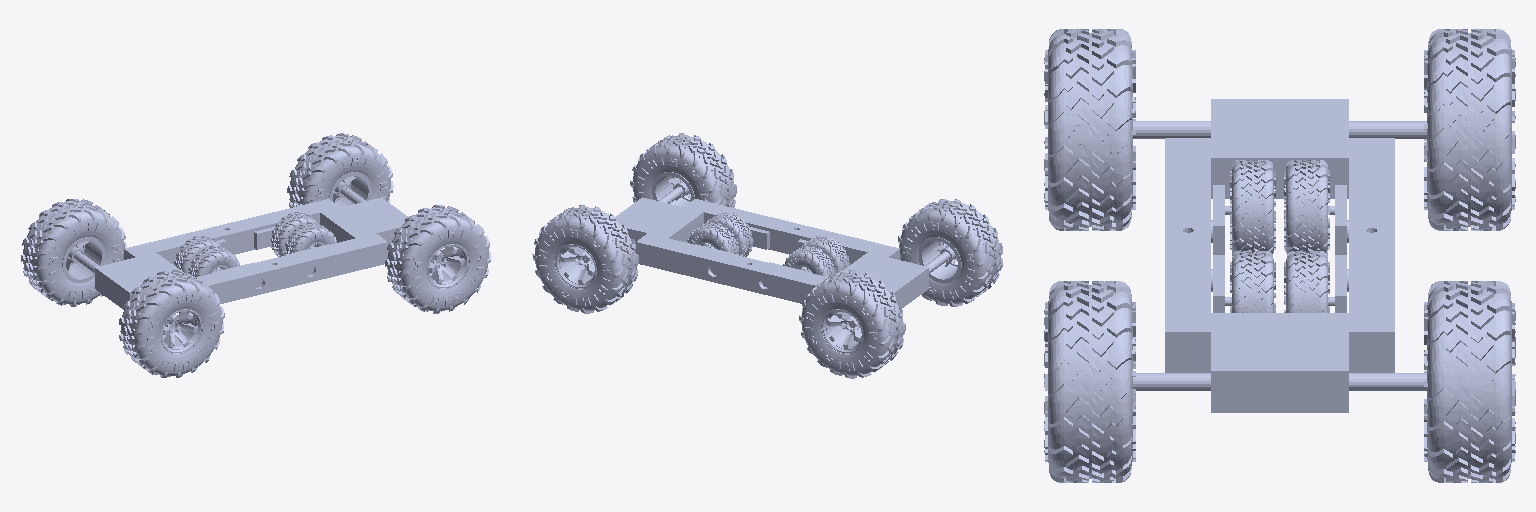
--- Render facts (derived) ---
The picture shows the robot from 3 angles, left to right: view 1: azimuth 30°, elevation 25°; view 2: azimuth 150°, elevation 25°; view 3: azimuth 270°, elevation 25°; orthographic projection.
Robot: optimus_no_origin_change — 19 links, 18 joints (8 continuous, 10 fixed); root link base_link; default pose: all joints at 0.
Visible links, largest first — view 1: base_link, FL_outer_wheel__link, RR_outer_wheel_link, RL_outer_wheel_link, FR_outer_wheel_link, F_bogie_link, R_bogie_link, FR_inner_wheel_link, RR_inner_wheel_link, FL_inner_wheel_link, RL_inner_wheel_link; view 2: base_link, FR_outer_wheel_link, RL_outer_wheel_link, RR_outer_wheel_link, FL_outer_wheel__link, F_bogie_link, R_bogie_link, FL_inner_wheel_link, RL_inner_wheel_link, FR_inner_wheel_link, RR_inner_wheel_link; view 3: base_link, FL_outer_wheel__link, FR_outer_wheel_link, RR_outer_wheel_link, RL_outer_wheel_link, F_bogie_link, R_bogie_link, RL_inner_wheel_link, RR_inner_wheel_link, FL_inner_wheel_link, FR_inner_wheel_link, FR_outer_wheel_connector_link (+7 smaller).
Boxes of the visible links, left/top/right/bottom form: base_link: left=124, top=199, right=387, bottom=303; FL_outer_wheel__link: left=385, top=205, right=491, bottom=313; RR_outer_wheel_link: left=119, top=270, right=224, bottom=377; RL_outer_wheel_link: left=21, top=199, right=126, bottom=306; FR_outer_wheel_link: left=287, top=133, right=393, bottom=207; F_bogie_link: left=320, top=197, right=407, bottom=262; R_bogie_link: left=95, top=253, right=184, bottom=309; FR_inner_wheel_link: left=285, top=222, right=336, bottom=253; RR_inner_wheel_link: left=189, top=246, right=239, bottom=276; FL_inner_wheel_link: left=271, top=212, right=320, bottom=256; RL_inner_wheel_link: left=174, top=236, right=223, bottom=273; base_link: left=636, top=199, right=899, bottom=303; FR_outer_wheel_link: left=532, top=205, right=638, bottom=313; RL_outer_wheel_link: left=799, top=270, right=905, bottom=378; RR_outer_wheel_link: left=898, top=199, right=1002, bottom=306; FL_outer_wheel__link: left=630, top=133, right=736, bottom=207; F_bogie_link: left=615, top=197, right=703, bottom=262; R_bogie_link: left=842, top=252, right=928, bottom=307; FL_inner_wheel_link: left=687, top=222, right=739, bottom=254; RL_inner_wheel_link: left=783, top=246, right=835, bottom=276; FR_inner_wheel_link: left=705, top=212, right=753, bottom=256; RR_inner_wheel_link: left=802, top=236, right=849, bottom=272; base_link: left=1165, top=138, right=1394, bottom=372; FL_outer_wheel__link: left=1044, top=281, right=1135, bottom=482; FR_outer_wheel_link: left=1424, top=281, right=1515, bottom=482; RR_outer_wheel_link: left=1044, top=29, right=1135, bottom=230; RL_outer_wheel_link: left=1424, top=29, right=1515, bottom=230; F_bogie_link: left=1211, top=313, right=1348, bottom=412; R_bogie_link: left=1211, top=99, right=1348, bottom=198; RL_inner_wheel_link: left=1284, top=160, right=1334, bottom=255; RR_inner_wheel_link: left=1225, top=160, right=1275, bottom=255; FL_inner_wheel_link: left=1284, top=251, right=1334, bottom=312; FR_inner_wheel_link: left=1225, top=251, right=1275, bottom=312; FR_outer_wheel_connector_link: left=1349, top=373, right=1426, bottom=390.
Bounding box of the posed robot: 3.48 × 2.05 × 0.8842 m (x, y, z).
Meshes: 19 distinct files referenced, 19 mesh visuals loaded (19 binary STL).

The robot description file, URDF, robot "optimus_no_origin_change":
<?xml version="1.0" encoding="utf-8"?>
<!-- This URDF was automatically created by SolidWorks to URDF Exporter! Originally created by Stephen Brawner ([email redacted]) 
     Commit Version: 1.6.0-1-g15f4949  Build Version: 1.6.7594.29634
     For more information, please see http://wiki.ros.org/sw_urdf_exporter -->
<robot
  name="optimus_no_origin_change">
  <link
    name="base_link">
    <inertial>
      <origin
        xyz="0.000271978105834902 0 -0.1"
        rpy="0 0 0" />
      <mass
        value="144.386284511659" />
      <inertia
        ixx="0.989799028466643"
        ixy="-4.90168172178078E-16"
        ixz="-3.9037651168657E-16"
        iyy="11.5644597125907"
        iyz="1.3263541125631E-17"
        izz="11.5261415106454" />
    </inertial>
    <visual>
      <origin
        xyz="0 0 0"
        rpy="0 0 0" />
      <geometry>
        <mesh
          filename="package://optimus_no_origin_change/meshes/base_link.STL" />
      </geometry>
      <material
        name="">
        <color
          rgba="0.792156862745098 0.819607843137255 0.933333333333333 1" />
      </material>
    </visual>
    <collision>
      <origin
        xyz="0 0 0"
        rpy="0 0 0" />
      <geometry>
        <mesh
          filename="package://optimus_no_origin_change/meshes/base_link.STL" />
      </geometry>
    </collision>
  </link>
  <link
    name="F_bogie_link">
    <inertial>
      <origin
        xyz="-0.0244164389508556 1.11022302462516E-16 0.3"
        rpy="0 0 0" />
      <mass
        value="75.1415926535898" />
      <inertia
        ixx="3.32158725212812"
        ixy="1.03837403218471E-16"
        ixz="-2.69176304497067E-16"
        iyy="5.32245435921457"
        iyz="-4.98335187950695E-16"
        izz="2.49354029185103" />
    </inertial>
    <visual>
      <origin
        xyz="0 0 0"
        rpy="0 0 0" />
      <geometry>
        <mesh
          filename="package://optimus_no_origin_change/meshes/F_bogie_link.STL" />
      </geometry>
      <material
        name="">
        <color
          rgba="0.792156862745098 0.819607843137255 0.933333333333333 1" />
      </material>
    </visual>
    <collision>
      <origin
        xyz="0 0 0"
        rpy="0 0 0" />
      <geometry>
        <mesh
          filename="package://optimus_no_origin_change/meshes/F_bogie_link.STL" />
      </geometry>
    </collision>
  </link>
  <joint
    name="F_bogie_joint"
    type="fixed">
    <origin
      xyz="1.1 -0.3 -0.1"
      rpy="-1.5707963267949 0 0" />
    <parent
      link="base_link" />
    <child
      link="F_bogie_link" />
    <axis
      xyz="0 0 0" />
  </joint>
  <link
    name="FR_outer_wheel_connector_link">
    <inertial>
      <origin
        xyz="3.33066907387547E-15 -2.85882428840978E-15 0.206818181818182"
        rpy="0 0 0" />
      <mass
        value="2.07345115136926" />
      <inertia
        ixx="0.0307163509718099"
        ixy="0"
        ixz="-3.74779761372748E-17"
        iyy="0.0307163509718099"
        iyz="2.33586732760321E-17"
        izz="0.00162106180925233" />
    </inertial>
    <visual>
      <origin
        xyz="0 0 0"
        rpy="0 0 0" />
      <geometry>
        <mesh
          filename="package://optimus_no_origin_change/meshes/FR_outer_wheel_connector_link.STL" />
      </geometry>
      <material
        name="">
        <color
          rgba="0.792156862745098 0.819607843137255 0.933333333333333 1" />
      </material>
    </visual>
    <collision>
      <origin
        xyz="0 0 0"
        rpy="0 0 0" />
      <geometry>
        <mesh
          filename="package://optimus_no_origin_change/meshes/FR_outer_wheel_connector_link.STL" />
      </geometry>
    </collision>
  </link>
  <joint
    name="FR_outer_wheel_connector_joint"
    type="fixed">
    <origin
      xyz="0.2 0 0.6"
      rpy="0 0 -1.3038" />
    <parent
      link="F_bogie_link" />
    <child
      link="FR_outer_wheel_connector_link" />
    <axis
      xyz="0 0 0" />
  </joint>
  <link
    name="FR_outer_wheel_link">
    <inertial>
      <origin
        xyz="0.201565805423125 -2.39341393715176E-06 2.39491226172728E-06"
        rpy="0 0 0" />
      <mass
        value="39.6885330149725" />
      <inertia
        ixx="4.63080044138697"
        ixy="5.39282947462053E-06"
        ixz="-5.40463680082042E-06"
        iyy="2.95668276005804"
        iyz="-9.49566603791752E-06"
        izz="2.95668280949652" />
    </inertial>
    <visual>
      <origin
        xyz="0 0 0"
        rpy="0 0 0" />
      <geometry>
        <mesh
          filename="package://optimus_no_origin_change/meshes/FR_outer_wheel_link.STL" />
      </geometry>
      <material
        name="">
        <color
          rgba="0.792156862745098 0.819607843137255 0.933333333333333 1" />
      </material>
    </visual>
    <collision>
      <origin
        xyz="0 0 0"
        rpy="0 0 0" />
      <geometry>
        <mesh
          filename="package://optimus_no_origin_change/meshes/FR_outer_wheel_link.STL" />
      </geometry>
    </collision>
  </link>
  <joint
    name="FR_outer_wheel_joint"
    type="continuous">
    <origin
      xyz="0 0 0.326743890579709"
      rpy="1.85261522674577 -1.5707963267949 0" />
    <parent
      link="FR_outer_wheel_connector_link" />
    <child
      link="FR_outer_wheel_link" />
    <axis
      xyz="1 0 0" />
  </joint>
  <link
    name="FL_outer_wheel_connector_link">
    <inertial>
      <origin
        xyz="3.33066907387547E-15 8.21565038222616E-15 0.206818181818182"
        rpy="0 0 0" />
      <mass
        value="2.07345115136926" />
      <inertia
        ixx="0.0307163509718099"
        ixy="0"
        ixz="-2.7143033242461E-17"
        iyy="0.0307163509718099"
        iyz="-6.90946420908297E-18"
        izz="0.00162106180925233" />
    </inertial>
    <visual>
      <origin
        xyz="0 0 0"
        rpy="0 0 0" />
      <geometry>
        <mesh
          filename="package://optimus_no_origin_change/meshes/FL_outer_wheel_connector_link.STL" />
      </geometry>
      <material
        name="">
        <color
          rgba="0.792156862745098 0.819607843137255 0.933333333333333 1" />
      </material>
    </visual>
    <collision>
      <origin
        xyz="0 0 0"
        rpy="0 0 0" />
      <geometry>
        <mesh
          filename="package://optimus_no_origin_change/meshes/FL_outer_wheel_connector_link.STL" />
      </geometry>
    </collision>
  </link>
  <joint
    name="FL_outer_wheel_connector_joint"
    type="fixed">
    <origin
      xyz="0.2 0 0"
      rpy="3.1416 0 -1.0332" />
    <parent
      link="F_bogie_link" />
    <child
      link="FL_outer_wheel_connector_link" />
    <axis
      xyz="0 0 0" />
  </joint>
  <link
    name="FL_outer_wheel__link">
    <inertial>
      <origin
        xyz="0.201565805423117 -2.39341393393211E-06 2.39491227418953E-06"
        rpy="0 0 0" />
      <mass
        value="39.6885330149755" />
      <inertia
        ixx="4.63080044138726"
        ixy="5.39282947359885E-06"
        ixz="-5.40463679747915E-06"
        iyy="2.9566827600579"
        iyz="-9.49566611097019E-06"
        izz="2.95668280949706" />
    </inertial>
    <visual>
      <origin
        xyz="0 0 0"
        rpy="0 0 0" />
      <geometry>
        <mesh
          filename="package://optimus_no_origin_change/meshes/FL_outer_wheel__link.STL" />
      </geometry>
      <material
        name="">
        <color
          rgba="0.792156862745098 0.819607843137255 0.933333333333333 1" />
      </material>
    </visual>
    <collision>
      <origin
        xyz="0 0 0"
        rpy="0 0 0" />
      <geometry>
        <mesh
          filename="package://optimus_no_origin_change/meshes/FL_outer_wheel__link.STL" />
      </geometry>
    </collision>
  </link>
  <joint
    name="FL_outer_wheel_joint"
    type="continuous">
    <origin
      xyz="0 0 0.326743890579708"
      rpy="1.85261522674577 -1.5707963267949 0" />
    <parent
      link="FL_outer_wheel_connector_link" />
    <child
      link="FL_outer_wheel__link" />
    <axis
      xyz="1 0 0" />
  </joint>
  <link
    name="R_bogie_link">
    <inertial>
      <origin
        xyz="-0.0244164389508561 -1.11022302462516E-16 -0.3"
        rpy="0 0 0" />
      <mass
        value="75.1415926535897" />
      <inertia
        ixx="3.32158725212812"
        ixy="4.90010961927251E-17"
        ixz="9.65658784720791E-17"
        iyy="5.32245435921456"
        iyz="8.52304382823977E-17"
        izz="2.49354029185103" />
    </inertial>
    <visual>
      <origin
        xyz="0 0 0"
        rpy="0 0 0" />
      <geometry>
        <mesh
          filename="package://optimus_no_origin_change/meshes/R_bogie_link.STL" />
      </geometry>
      <material
        name="">
        <color
          rgba="0.792156862745098 0.819607843137255 0.933333333333333 1" />
      </material>
    </visual>
    <collision>
      <origin
        xyz="0 0 0"
        rpy="0 0 0" />
      <geometry>
        <mesh
          filename="package://optimus_no_origin_change/meshes/R_bogie_link.STL" />
      </geometry>
    </collision>
  </link>
  <joint
    name="R_bogie_joint"
    type="fixed">
    <origin
      xyz="-1.1 -0.3 -0.0999999999999984"
      rpy="-1.5707963267949 0 -3.14159265358979" />
    <parent
      link="base_link" />
    <child
      link="R_bogie_link" />
    <axis
      xyz="0 0 0" />
  </joint>
  <link
    name="RL_outer_wheel_connector_link">
    <inertial>
      <origin
        xyz="1.11022302462516E-16 -4.44089209850063E-16 0.206818181818182"
        rpy="0 0 0" />
      <mass
        value="2.07345115136926" />
      <inertia
        ixx="0.0307163509718099"
        ixy="-2.16840434497101E-18"
        ixz="-2.59961384249049E-17"
        iyy="0.0307163509718099"
        iyz="-1.02299443094433E-17"
        izz="0.00162106180925233" />
    </inertial>
    <visual>
      <origin
        xyz="0 0 0"
        rpy="0 0 0" />
      <geometry>
        <mesh
          filename="package://optimus_no_origin_change/meshes/RL_outer_wheel_connector_link.STL" />
      </geometry>
      <material
        name="">
        <color
          rgba="0.792156862745098 0.819607843137255 0.933333333333333 1" />
      </material>
    </visual>
    <collision>
      <origin
        xyz="0 0 0"
        rpy="0 0 0" />
      <geometry>
        <mesh
          filename="package://optimus_no_origin_change/meshes/RL_outer_wheel_connector_link.STL" />
      </geometry>
    </collision>
  </link>
  <joint
    name="RL_outer_wheel_connector_joint"
    type="fixed">
    <origin
      xyz="0.2 0 -0.6"
      rpy="3.1416 0 -1.7592" />
    <parent
      link="R_bogie_link" />
    <child
      link="RL_outer_wheel_connector_link" />
    <axis
      xyz="0 0 0" />
  </joint>
  <link
    name="RL_outer_wheel_link">
    <inertial>
      <origin
        xyz="0.201565805282954 -2.39346774866256E-06 2.39471855190132E-06"
        rpy="0 0 0" />
      <mass
        value="39.6885328227854" />
      <inertia
        ixx="4.63080044108311"
        ixy="5.39285840694666E-06"
        ixz="-5.4045010386314E-06"
        iyy="2.95668275970754"
        iyz="-9.49559167129355E-06"
        izz="2.95668280940998" />
    </inertial>
    <visual>
      <origin
        xyz="0 0 0"
        rpy="0 0 0" />
      <geometry>
        <mesh
          filename="package://optimus_no_origin_change/meshes/RL_outer_wheel_link.STL" />
      </geometry>
      <material
        name="">
        <color
          rgba="0.792156862745098 0.819607843137255 0.933333333333333 1" />
      </material>
    </visual>
    <collision>
      <origin
        xyz="0 0 0"
        rpy="0 0 0" />
      <geometry>
        <mesh
          filename="package://optimus_no_origin_change/meshes/RL_outer_wheel_link.STL" />
      </geometry>
    </collision>
  </link>
  <joint
    name="RL_outer_wheel_joint"
    type="continuous">
    <origin
      xyz="0 0 0.326743890579709"
      rpy="1.85261522674576 -1.5707963267949 0" />
    <parent
      link="RL_outer_wheel_connector_link" />
    <child
      link="RL_outer_wheel_link" />
    <axis
      xyz="1 0 0" />
  </joint>
  <link
    name="RR_outer_wheel_connector_link">
    <inertial>
      <origin
        xyz="5.55111512312578E-16 -8.88178419700125E-16 0.206818181818182"
        rpy="0 0 0" />
      <mass
        value="2.07345115136926" />
      <inertia
        ixx="0.0307163509718099"
        ixy="-3.46944695195361E-18"
        ixz="-1.69209866544731E-17"
        iyy="0.0307163509718099"
        iyz="-9.04307851299227E-18"
        izz="0.00162106180925233" />
    </inertial>
    <visual>
      <origin
        xyz="0 0 0"
        rpy="0 0 0" />
      <geometry>
        <mesh
          filename="package://optimus_no_origin_change/meshes/RR_outer_wheel_connector_link.STL" />
      </geometry>
      <material
        name="">
        <color
          rgba="0.792156862745098 0.819607843137255 0.933333333333333 1" />
      </material>
    </visual>
    <collision>
      <origin
        xyz="0 0 0"
        rpy="0 0 0" />
      <geometry>
        <mesh
          filename="package://optimus_no_origin_change/meshes/RR_outer_wheel_connector_link.STL" />
      </geometry>
    </collision>
  </link>
  <joint
    name="RR_outer_wheel_connector_joint"
    type="fixed">
    <origin
      xyz="0.2 0 0"
      rpy="0 0 -2.2505" />
    <parent
      link="R_bogie_link" />
    <child
      link="RR_outer_wheel_connector_link" />
    <axis
      xyz="0 0 0" />
  </joint>
  <link
    name="RR_outer_wheel_link">
    <inertial>
      <origin
        xyz="0.201565805423126 -2.39341393715176E-06 2.39491226405875E-06"
        rpy="0 0 0" />
      <mass
        value="39.6885330149728" />
      <inertia
        ixx="4.630800441387"
        ixy="5.39282946622436E-06"
        ixz="-5.40463679225832E-06"
        iyy="2.95668276005781"
        iyz="-9.49566595909168E-06"
        izz="2.95668280949678" />
    </inertial>
    <visual>
      <origin
        xyz="0 0 0"
        rpy="0 0 0" />
      <geometry>
        <mesh
          filename="package://optimus_no_origin_change/meshes/RR_outer_wheel_link.STL" />
      </geometry>
      <material
        name="">
        <color
          rgba="0.792156862745098 0.819607843137255 0.933333333333333 1" />
      </material>
    </visual>
    <collision>
      <origin
        xyz="0 0 0"
        rpy="0 0 0" />
      <geometry>
        <mesh
          filename="package://optimus_no_origin_change/meshes/RR_outer_wheel_link.STL" />
      </geometry>
    </collision>
  </link>
  <joint
    name="RR_outer_wheel_joint"
    type="continuous">
    <origin
      xyz="0 0 0.326743890579708"
      rpy="1.85261522674574 -1.5707963267949 0" />
    <parent
      link="RR_outer_wheel_connector_link" />
    <child
      link="RR_outer_wheel_link" />
    <axis
      xyz="1 0 0" />
  </joint>
  <link
    name="FL_inner_wheel_connector_link">
    <inertial>
      <origin
        xyz="0.000744286749609024 1.11022302462516E-16 0.20508770745258"
        rpy="0 0 0" />
      <mass
        value="3.16570796326795" />
      <inertia
        ixx="0.0524105342655653"
        ixy="-4.35624452410736E-20"
        ixz="0.000247607077286725"
        iyy="0.0471742267451069"
        iyz="1.2697749470794E-19"
        izz="0.00666180087935192" />
    </inertial>
    <visual>
      <origin
        xyz="0 0 0"
        rpy="0 0 0" />
      <geometry>
        <mesh
          filename="package://optimus_no_origin_change/meshes/FL_inner_wheel_connector_link.STL" />
      </geometry>
      <material
        name="">
        <color
          rgba="0.792156862745098 0.819607843137255 0.933333333333333 1" />
      </material>
    </visual>
    <collision>
      <origin
        xyz="0 0 0"
        rpy="0 0 0" />
      <geometry>
        <mesh
          filename="package://optimus_no_origin_change/meshes/FL_inner_wheel_connector_link.STL" />
      </geometry>
    </collision>
  </link>
  <joint
    name="FL_inner_wheel_connector_joint"
    type="fixed">
    <origin
      xyz="0.15 0.265 -0.1"
      rpy="1.5708 0 1.5708" />
    <parent
      link="base_link" />
    <child
      link="FL_inner_wheel_connector_link" />
    <axis
      xyz="0 0 0" />
  </joint>
  <link
    name="FL_inner_wheel_link">
    <inertial>
      <origin
        xyz="0.122556778342617 -2.36936965991585E-06 2.37036620520659E-06"
        rpy="0 0 0" />
      <mass
        value="5.0050487689712" />
      <inertia
        ixx="0.144720367774976"
        ixy="1.68525920626152E-07"
        ixz="-1.68894899705309E-07"
        iyy="0.0924066661076408"
        iyz="-2.96739585987828E-07"
        izz="0.0924066676526247" />
    </inertial>
    <visual>
      <origin
        xyz="0 0 0"
        rpy="0 0 0" />
      <geometry>
        <mesh
          filename="package://optimus_no_origin_change/meshes/FL_inner_wheel_link.STL" />
      </geometry>
      <material
        name="">
        <color
          rgba="0.792156862745098 0.819607843137255 0.933333333333333 1" />
      </material>
    </visual>
    <collision>
      <origin
        xyz="0 0 0"
        rpy="0 0 0" />
      <geometry>
        <mesh
          filename="package://optimus_no_origin_change/meshes/FL_inner_wheel_link.STL" />
      </geometry>
    </collision>
  </link>
  <joint
    name="FL_inner_wheel_joint"
    type="continuous">
    <origin
      xyz="-0.0250000000000001 0 0.32"
      rpy="-3.08118480125405 0 3.14159265358979" />
    <parent
      link="FL_inner_wheel_connector_link" />
    <child
      link="FL_inner_wheel_link" />
    <axis
      xyz="1 0 0" />
  </joint>
  <link
    name="FR_inner_wheel_connector_link">
    <inertial>
      <origin
        xyz="0.000744286749609135 -1.11022302462516E-16 0.20508770745258"
        rpy="0 0 0" />
      <mass
        value="3.16570796326795" />
      <inertia
        ixx="0.0524105342655651"
        ixy="-1.50859814025046E-18"
        ixz="0.000247607077286713"
        iyy="0.0471742267451067"
        iyz="1.12195712810502E-18"
        izz="0.0066618008793519" />
    </inertial>
    <visual>
      <origin
        xyz="0 0 0"
        rpy="0 0 0" />
      <geometry>
        <mesh
          filename="package://optimus_no_origin_change/meshes/FR_inner_wheel_connector_link.STL" />
      </geometry>
      <material
        name="">
        <color
          rgba="0.792156862745098 0.819607843137255 0.933333333333333 1" />
      </material>
    </visual>
    <collision>
      <origin
        xyz="0 0 0"
        rpy="0 0 0" />
      <geometry>
        <mesh
          filename="package://optimus_no_origin_change/meshes/FR_inner_wheel_connector_link.STL" />
      </geometry>
    </collision>
  </link>
  <joint
    name="FR_inner_wheel_connector_joint"
    type="fixed">
    <origin
      xyz="0.15 -0.265 -0.1"
      rpy="-1.5708 0 -1.5708" />
    <parent
      link="base_link" />
    <child
      link="FR_inner_wheel_connector_link" />
    <axis
      xyz="0 0 0" />
  </joint>
  <link
    name="FR_inner_wheel_link">
    <inertial>
      <origin
        xyz="0.122556779088169 -2.3693696860061E-06 2.37036622774411E-06"
        rpy="0 0 0" />
      <mass
        value="5.00504892402194" />
      <inertia
        ixx="0.144720367920832"
        ixy="1.68525902114553E-07"
        ixz="-1.68894881016372E-07"
        iyy="0.0924066662947163"
        iyz="-2.96738910159078E-07"
        izz="0.0924066676638247" />
    </inertial>
    <visual>
      <origin
        xyz="0 0 0"
        rpy="0 0 0" />
      <geometry>
        <mesh
          filename="package://optimus_no_origin_change/meshes/FR_inner_wheel_link.STL" />
      </geometry>
      <material
        name="">
        <color
          rgba="0.792156862745098 0.819607843137255 0.933333333333333 1" />
      </material>
    </visual>
    <collision>
      <origin
        xyz="0 0 0"
        rpy="0 0 0" />
      <geometry>
        <mesh
          filename="package://optimus_no_origin_change/meshes/FR_inner_wheel_link.STL" />
      </geometry>
    </collision>
  </link>
  <joint
    name="FR_inner_wheel_joint"
    type="continuous">
    <origin
      xyz="-0.0249999999999999 0 0.32"
      rpy="2.2011440774755 0 3.14159265358979" />
    <parent
      link="FR_inner_wheel_connector_link" />
    <child
      link="FR_inner_wheel_link" />
    <axis
      xyz="1 0 0" />
  </joint>
  <link
    name="RL_inner_wheel_connector_link">
    <inertial>
      <origin
        xyz="0.000744286749609135 0 0.20508770745258"
        rpy="0 0 0" />
      <mass
        value="3.16570796326795" />
      <inertia
        ixx="0.0524105342655653"
        ixy="1.32871259208305E-18"
        ixz="0.000247607077286719"
        iyy="0.0471742267451069"
        iyz="-7.36016907127747E-18"
        izz="0.00666180087935194" />
    </inertial>
    <visual>
      <origin
        xyz="0 0 0"
        rpy="0 0 0" />
      <geometry>
        <mesh
          filename="package://optimus_no_origin_change/meshes/RL_inner_wheel_connector_link.STL" />
      </geometry>
      <material
        name="">
        <color
          rgba="0.792156862745098 0.819607843137255 0.933333333333333 1" />
      </material>
    </visual>
    <collision>
      <origin
        xyz="0 0 0"
        rpy="0 0 0" />
      <geometry>
        <mesh
          filename="package://optimus_no_origin_change/meshes/RL_inner_wheel_connector_link.STL" />
      </geometry>
    </collision>
  </link>
  <joint
    name="RL_inner_wheel_connector_joint"
    type="fixed">
    <origin
      xyz="-0.15 0.265 -0.1"
      rpy="-1.5708 0 1.5708" />
    <parent
      link="base_link" />
    <child
      link="RL_inner_wheel_connector_link" />
    <axis
      xyz="0 0 0" />
  </joint>
  <link
    name="RL_inner_wheel_link">
    <inertial>
      <origin
        xyz="2.12477262673261E-06 -2.59188923523723E-06 0.122556778342622"
        rpy="0 0 0" />
      <mass
        value="5.00504876897168" />
      <inertia
        ixx="0.0924066080403615"
        ixy="-2.90848497870935E-07"
        ixz="-1.51099176154497E-07"
        iyy="0.0924067257199195"
        iyz="1.84649701303913E-07"
        izz="0.144720367774988" />
    </inertial>
    <visual>
      <origin
        xyz="0 0 0"
        rpy="0 0 0" />
      <geometry>
        <mesh
          filename="package://optimus_no_origin_change/meshes/RL_inner_wheel_link.STL" />
      </geometry>
      <material
        name="">
        <color
          rgba="0.792156862745098 0.819607843137255 0.933333333333333 1" />
      </material>
    </visual>
    <collision>
      <origin
        xyz="0 0 0"
        rpy="0 0 0" />
      <geometry>
        <mesh
          filename="package://optimus_no_origin_change/meshes/RL_inner_wheel_link.STL" />
      </geometry>
    </collision>
  </link>
  <joint
    name="RL_inner_wheel_joint"
    type="continuous">
    <origin
      xyz="-0.0249999999999979 0 0.32"
      rpy="1.5707963267949 -0.0864704456326401 -1.5707963267949" />
    <parent
      link="RL_inner_wheel_connector_link" />
    <child
      link="RL_inner_wheel_link" />
    <axis
      xyz="0 0 1" />
  </joint>
  <link
    name="RR_inner_wheel_connector_link">
    <inertial>
      <origin
        xyz="0.000744286749609135 1.11022302462516E-16 0.20508770745258"
        rpy="0 0 0" />
      <mass
        value="3.16570796326795" />
      <inertia
        ixx="0.0524105342655651"
        ixy="2.77966142619567E-19"
        ixz="0.000247607077286714"
        iyy="0.0471742267451067"
        iyz="-3.33587796479693E-18"
        izz="0.00666180087935192" />
    </inertial>
    <visual>
      <origin
        xyz="0 0 0"
        rpy="0 0 0" />
      <geometry>
        <mesh
          filename="package://optimus_no_origin_change/meshes/RR_inner_wheel_connector_link.STL" />
      </geometry>
      <material
        name="">
        <color
          rgba="0.792156862745098 0.819607843137255 0.933333333333333 1" />
      </material>
    </visual>
    <collision>
      <origin
        xyz="0 0 0"
        rpy="0 0 0" />
      <geometry>
        <mesh
          filename="package://optimus_no_origin_change/meshes/RR_inner_wheel_connector_link.STL" />
      </geometry>
    </collision>
  </link>
  <joint
    name="RR_inner_wheel_connector_joint"
    type="fixed">
    <origin
      xyz="-0.149999999999999 -0.265 -0.0999999999999999"
      rpy="1.5707963267949 0 -1.5707963267949" />
    <parent
      link="base_link" />
    <child
      link="RR_inner_wheel_connector_link" />
    <axis
      xyz="0 0 0" />
  </joint>
  <link
    name="RR_inner_wheel_link">
    <inertial>
      <origin
        xyz="2.12477264605049E-06 -2.59188926099441E-06 0.122556779088174"
        rpy="0 0 0" />
      <mass
        value="5.00504892402154" />
      <inertia
        ixx="0.0924066082258415"
        ixy="-2.90865069290519E-07"
        ixz="-1.51099158833888E-07"
        iyy="0.0924067257326864"
        iyz="1.84649680710438E-07"
        izz="0.144720367920822" />
    </inertial>
    <visual>
      <origin
        xyz="0 0 0"
        rpy="0 0 0" />
      <geometry>
        <mesh
          filename="package://optimus_no_origin_change/meshes/RR_inner_wheel_link.STL" />
      </geometry>
      <material
        name="">
        <color
          rgba="0.792156862745098 0.819607843137255 0.933333333333333 1" />
      </material>
    </visual>
    <collision>
      <origin
        xyz="0 0 0"
        rpy="0 0 0" />
      <geometry>
        <mesh
          filename="package://optimus_no_origin_change/meshes/RR_inner_wheel_link.STL" />
      </geometry>
    </collision>
  </link>
  <joint
    name="RR_inner_wheel_joint"
    type="continuous">
    <origin
      xyz="-0.0249999999999991 0 0.32"
      rpy="1.5707963267949 -0.846919764335258 -1.5707963267949" />
    <parent
      link="RR_inner_wheel_connector_link" />
    <child
      link="RR_inner_wheel_link" />
    <axis
      xyz="0 0 1" />
  </joint>
</robot>
